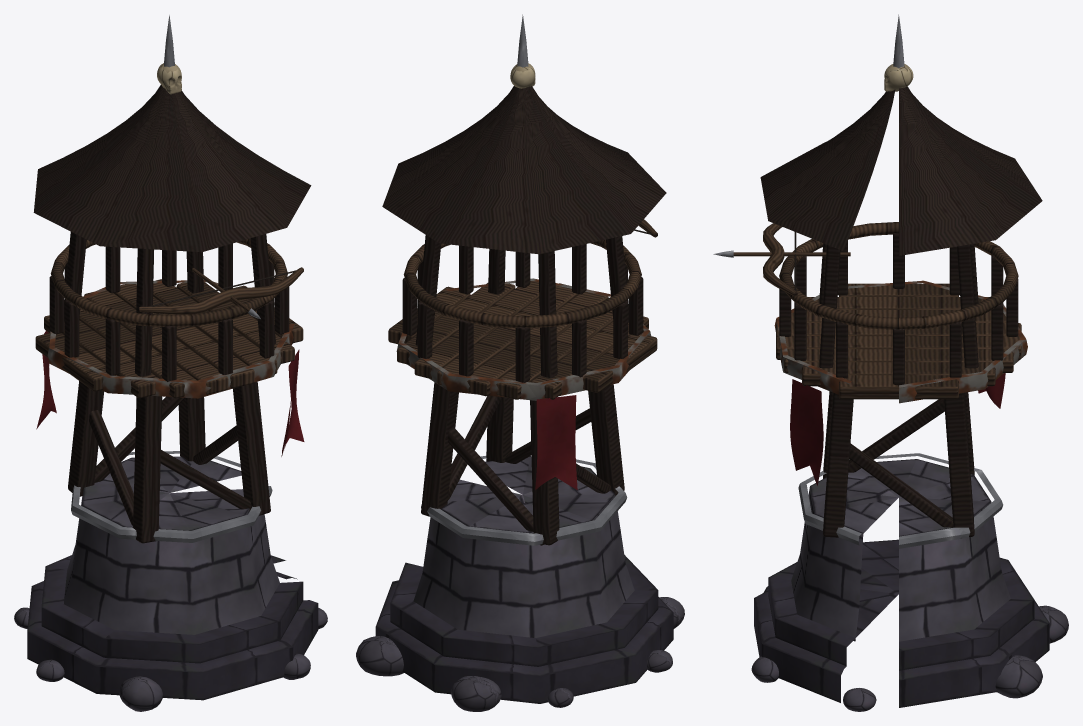
File: ranger.glb
3 renders of one model, left to right at view 1: azimuth 30°, elevation 25°; view 2: azimuth 150°, elevation 25°; view 3: azimuth 270°, elevation 25°, orthographic.
Visible parts, largest first — view 1: Base, Turret; view 2: Base, Turret; view 3: Base, Turret.
Boxes of the visible parts, x1,y1,x2,y2 form: Base: (14, 279, 327, 711); Turret: (33, 15, 311, 381); Base: (356, 278, 684, 711); Turret: (382, 14, 666, 382); Base: (751, 280, 1068, 711); Turret: (713, 14, 1042, 384).
Bounding box in the file's own units: 0.9357 × 2.06 × 1.03.
Materials: 10 (10 with a texture image).
